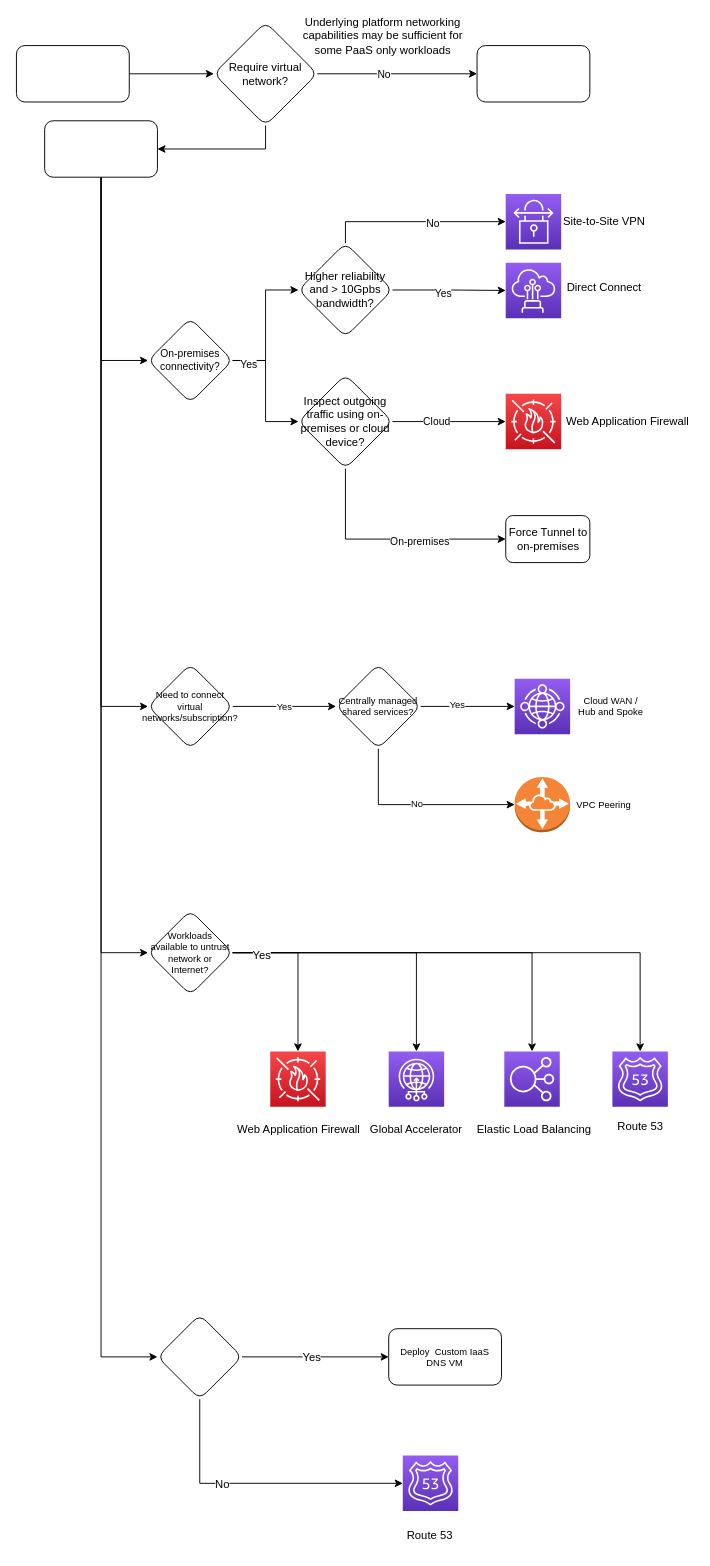
Image size: 710x1566. Some labels were removed from this diagram. Each missing label, with the box of its shape:
PaaS Only(Remove virtual network from bluerprint): (476, 45, 590, 102)
Require custom DNS settings?: (157, 1314, 242, 1399)
Starting from the CAF migrate landing zone blueprint: (16, 45, 129, 102)
Virtual Network(included in blueprint by default): (44, 120, 157, 177)
